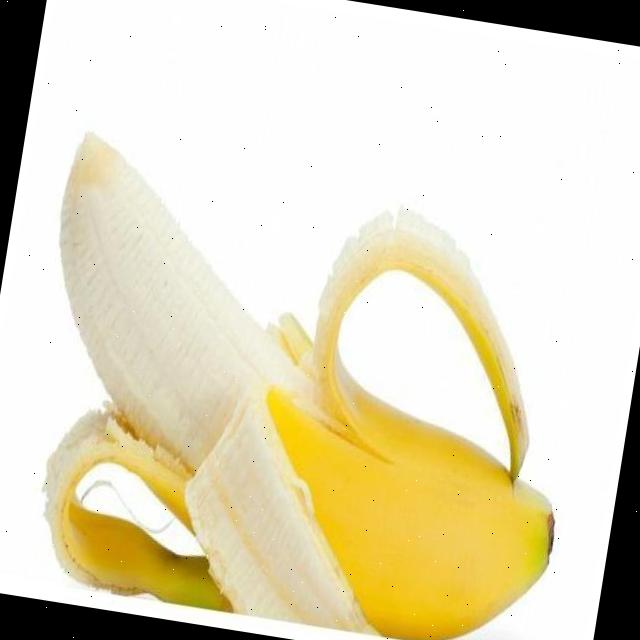banana-peel: (0, 125, 606, 640)
